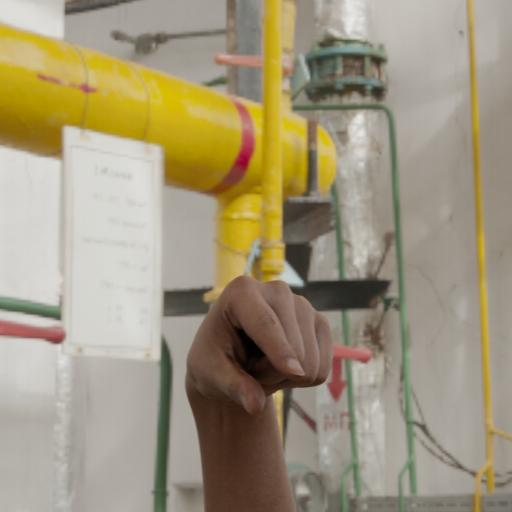Q: (167, 252, 352, 428)
